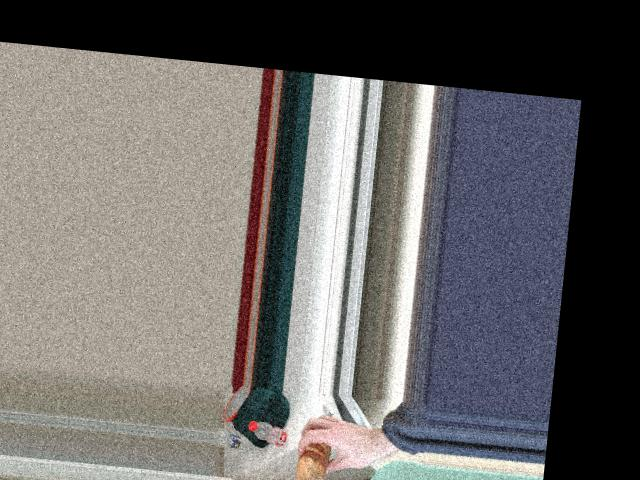sweet_potato: (301, 427, 348, 480)
